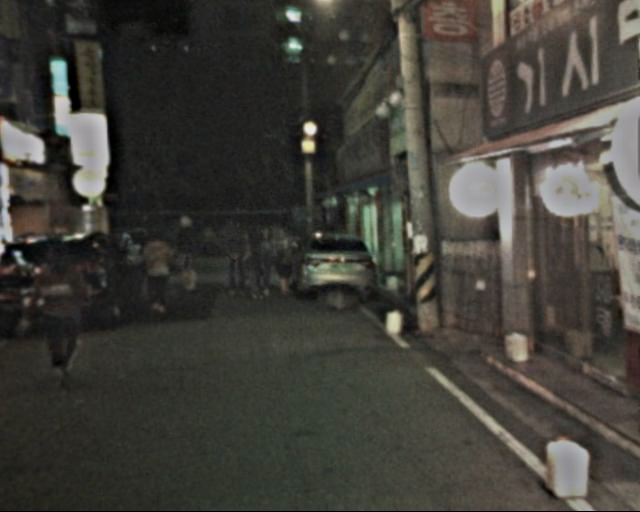person: (37, 243, 92, 377), (137, 225, 174, 312), (168, 212, 207, 293), (215, 218, 253, 299), (265, 227, 298, 297), (246, 228, 275, 296)
